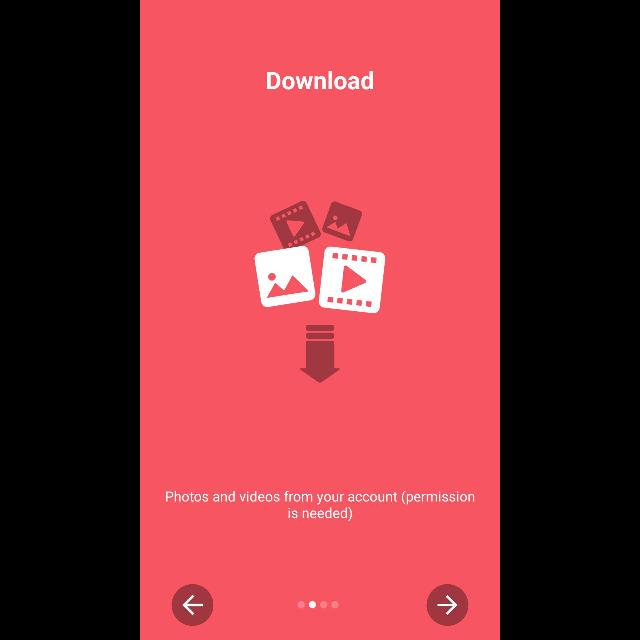button: (172, 584, 214, 626), (427, 584, 469, 626)
image: (254, 201, 386, 383)
pageindicator: (297, 600, 339, 610)
text: (166, 490, 474, 522), (266, 70, 374, 90)
